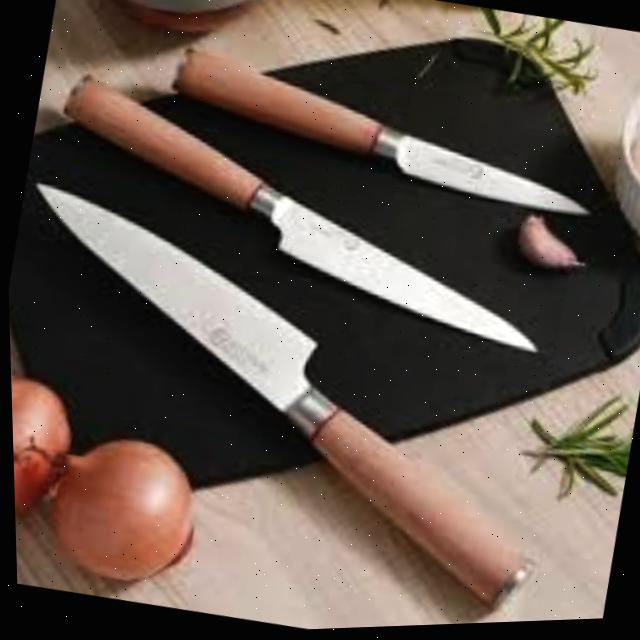Knife: (4, 162, 591, 635), (31, 55, 578, 372), (163, 35, 611, 234)
